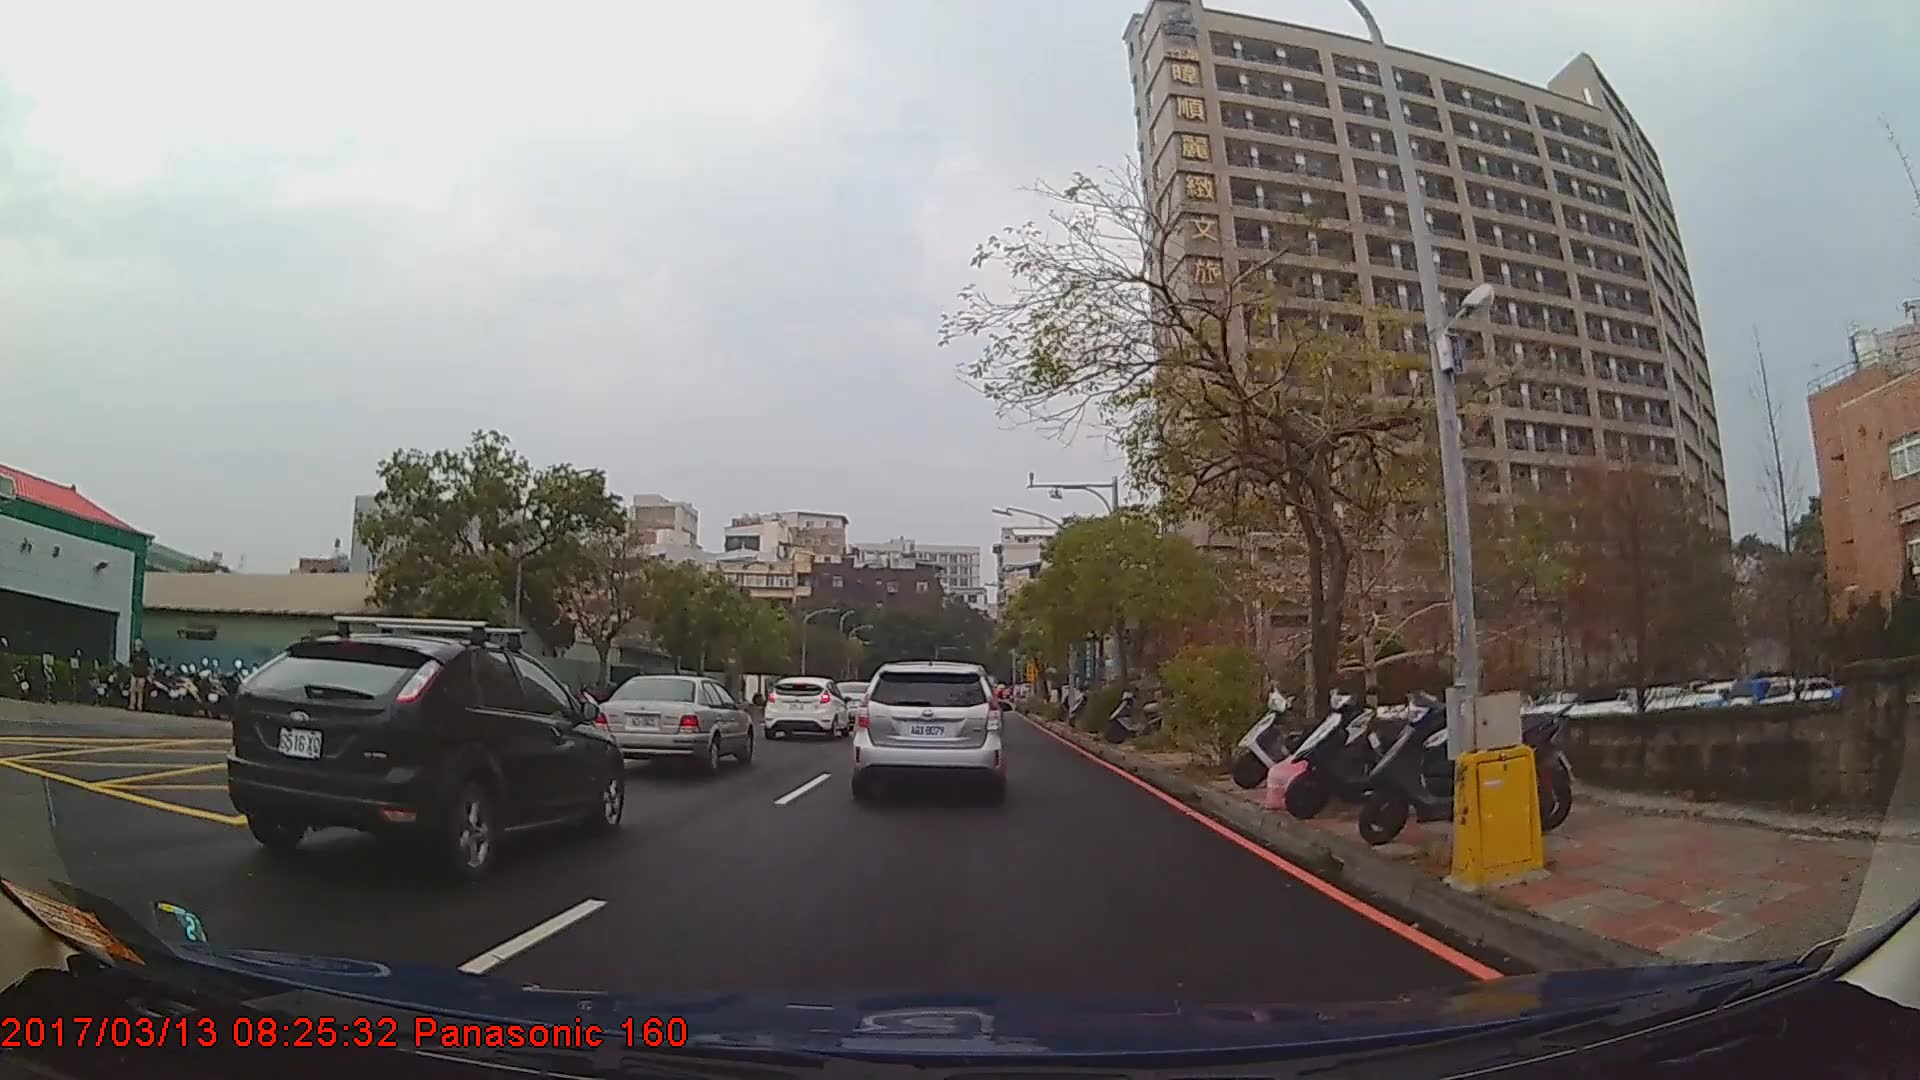pedestrian: (129, 639, 154, 713)
vehicle: (224, 629, 622, 873), (849, 658, 1002, 802), (591, 673, 752, 772), (761, 675, 851, 740)
